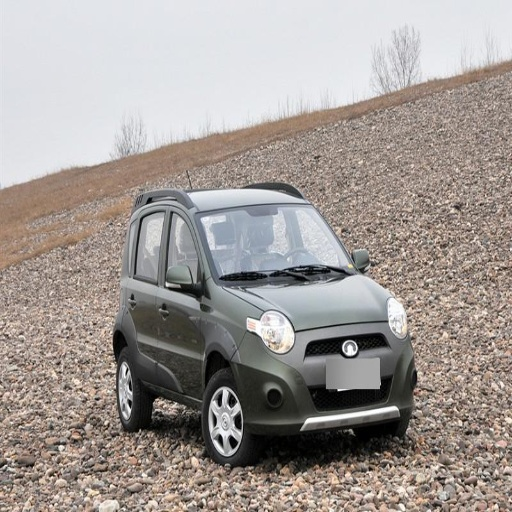front_bumper: (240, 321, 411, 434)
front_right_door: (157, 202, 202, 392)
front_right_light: (249, 311, 294, 354)
hood: (228, 272, 389, 329)
